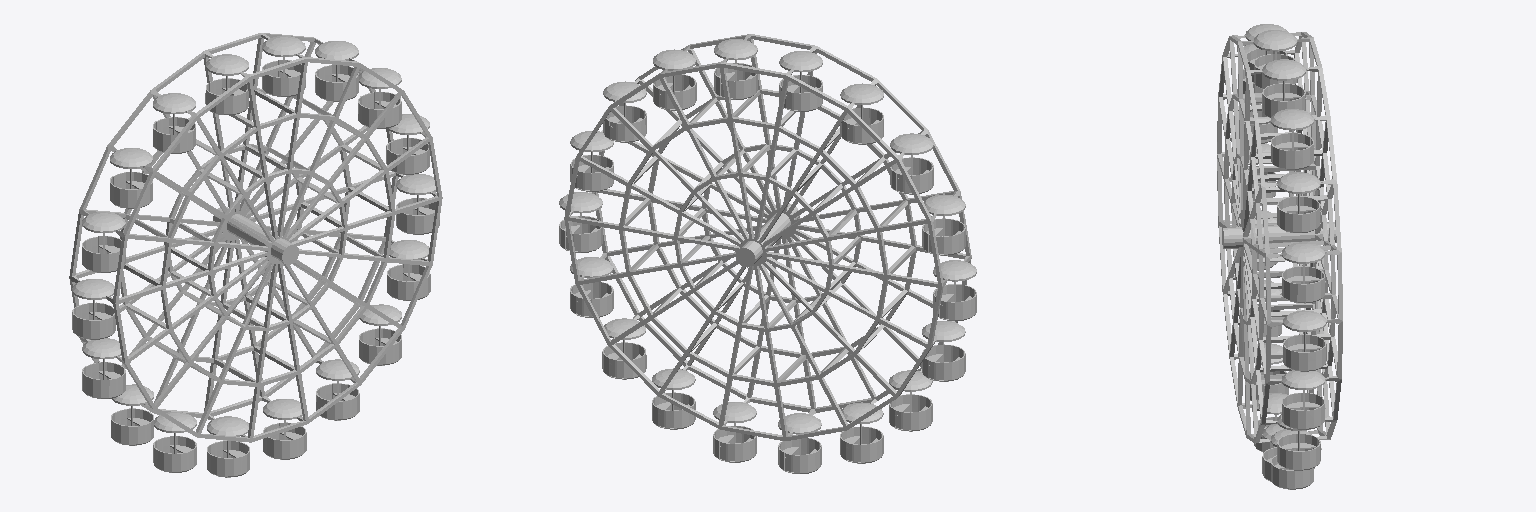
Rendered from parkCircle.obj.
3 renders of one model, left to right at view 1: azimuth 30°, elevation 25°; view 2: azimuth 150°, elevation 25°; view 3: azimuth 270°, elevation 25°, orthographic.
Visible parts, largest first — view 1: Ruota, Cabina_14.001, Cabina_15.001, Cabina_18.001, Cabina_17.001, Cabina_13.001, Cabina_12.001, Cabina_16.001, Cabina_01.001, Cabina_08.001, Cabina_11.001, Cabina_04.001 (+8 smaller); view 2: Ruota, Cabina_18.001, Cabina_16.001, Cabina_17.001, Cabina_15.001, Cabina_14.001, Cabina_13.001, Cabina_12.001, Cabina_01.001, Cabina_11.001, Cabina_08.001, Cabina_02.001 (+8 smaller); view 3: Ruota, Cabina_07.001, Cabina_05.001, Cabina_06.002, Cabina_08.001, Cabina_04.001, Cabina_09.001, Cabina_03.001, Cabina_10.001, Supporto_02, Cabina_02.001, Cabina_11.001 (+1 smaller).
Part boxes in pixels (bbox=[...]): Ruota: bbox=[69, 33, 442, 442]; Cabina_14.001: bbox=[72, 279, 115, 339]; Cabina_15.001: bbox=[82, 338, 125, 398]; Cabina_18.001: bbox=[207, 416, 249, 477]; Cabina_17.001: bbox=[153, 412, 196, 472]; Cabina_13.001: bbox=[82, 212, 125, 272]; Cabina_12.001: bbox=[110, 148, 152, 208]; Cabina_16.001: bbox=[111, 384, 153, 445]; Cabina_01.001: bbox=[263, 399, 306, 459]; Cabina_08.001: bbox=[315, 41, 358, 101]; Cabina_11.001: bbox=[153, 93, 195, 153]; Cabina_04.001: bbox=[387, 240, 430, 300]; Ruota: bbox=[564, 34, 971, 440]; Cabina_18.001: bbox=[778, 413, 821, 473]; Cabina_16.001: bbox=[889, 370, 932, 431]; Cabina_17.001: bbox=[840, 402, 883, 463]; Cabina_15.001: bbox=[922, 321, 965, 381]; Cabina_14.001: bbox=[933, 260, 976, 320]; Cabina_13.001: bbox=[922, 194, 965, 255]; Cabina_12.001: bbox=[890, 133, 933, 194]; Cabina_01.001: bbox=[713, 402, 756, 462]; Cabina_11.001: bbox=[840, 83, 883, 144]; Cabina_08.001: bbox=[653, 49, 696, 110]; Cabina_02.001: bbox=[652, 368, 695, 429]; Ruota: bbox=[1217, 32, 1342, 443]; Cabina_07.001: bbox=[1276, 172, 1322, 232]; Cabina_05.001: bbox=[1282, 310, 1327, 371]; Cabina_06.002: bbox=[1280, 242, 1326, 303]; Cabina_08.001: bbox=[1269, 109, 1315, 169]; Cabina_04.001: bbox=[1281, 370, 1326, 429]; Cabina_09.001: bbox=[1262, 59, 1306, 117]; Cabina_03.001: bbox=[1277, 414, 1321, 470]; Cabina_10.001: bbox=[1253, 30, 1297, 88]; Supporto_02: bbox=[1222, 222, 1335, 248]; Cabina_02.001: bbox=[1270, 429, 1314, 489]; Cabina_11.001: bbox=[1244, 24, 1287, 82].
Size of the model in its own units: 15.53 by 15.79 by 4.4.